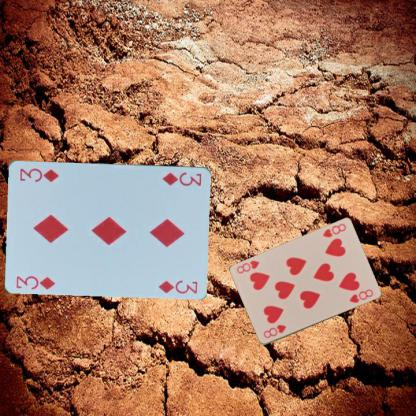3d: (159, 169, 203, 187), (14, 273, 57, 291)
8h: (320, 221, 347, 239), (261, 322, 287, 340)
